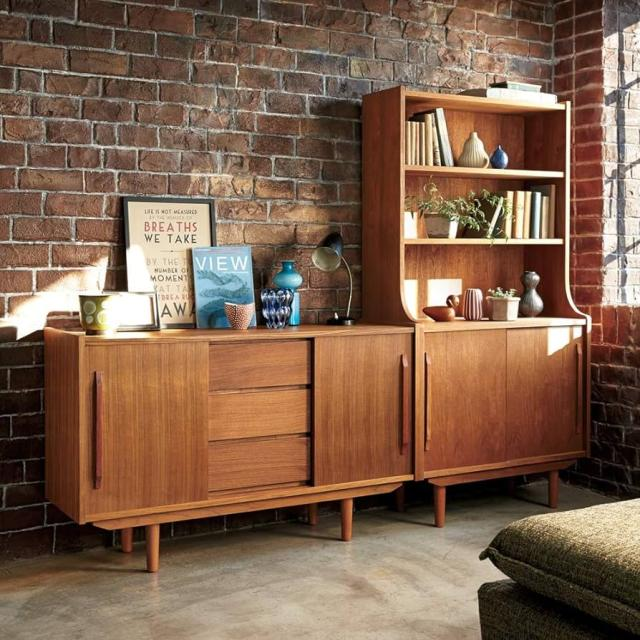vintage shelf: (69, 79, 586, 518)
